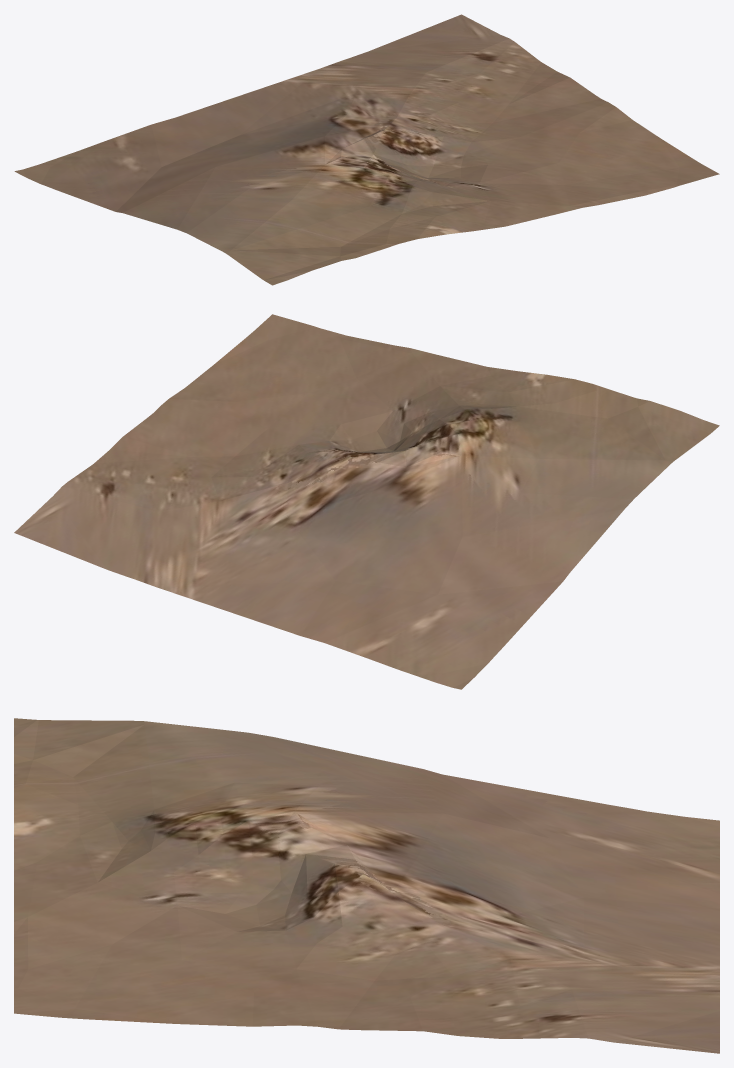
3 renders of one model, top to bottom at view 1: azimuth 30°, elevation 25°; view 2: azimuth 150°, elevation 25°; view 3: azimuth 270°, elevation 25°, orthographic. The views are drawn at different scales.
Bounding box in the file's own units: 1.04 × 0.1929 × 1.04.
Materials: 3 (3 with a texture image).
